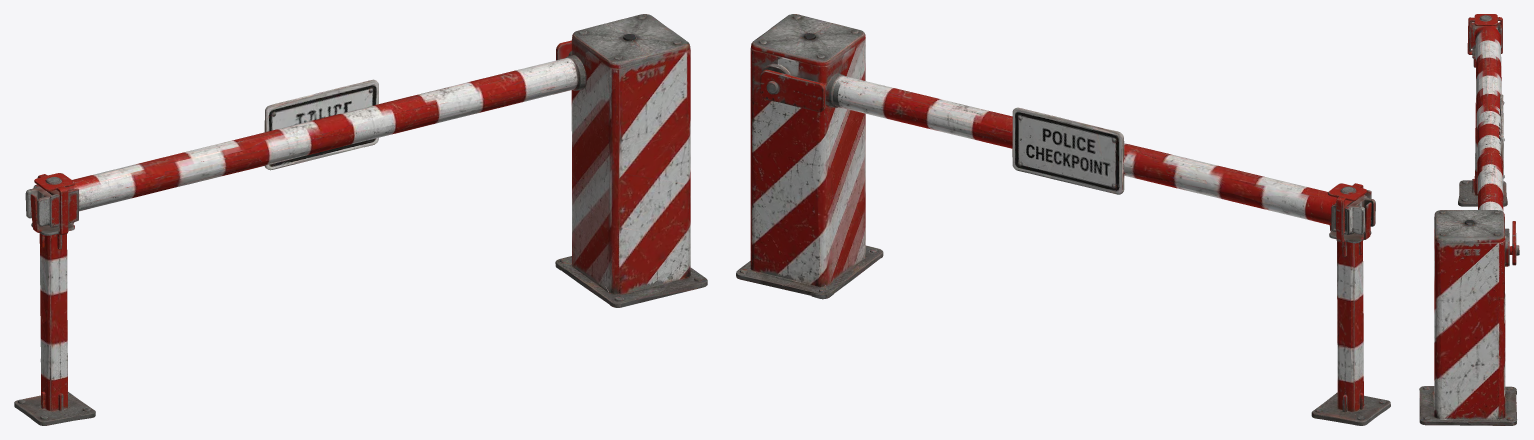
3 views of the same model, side by side, from view 1: azimuth 30°, elevation 25°; view 2: azimuth 150°, elevation 25°; view 3: azimuth 270°, elevation 25° (orthographic). The views are drawn at different scales.
Visible parts, largest first — view 1: Mesh_0; view 2: Mesh_0; view 3: Mesh_0.
Boxes of the visible parts, x1,y1,x2,y2 form: Mesh_0: (14, 14, 707, 425); Mesh_0: (736, 14, 1390, 425); Mesh_0: (1419, 14, 1519, 425).
Bounding box in the file's own units: 1.9 × 0.6906 × 0.3298.
Materials: 1 (1 with a texture image).
